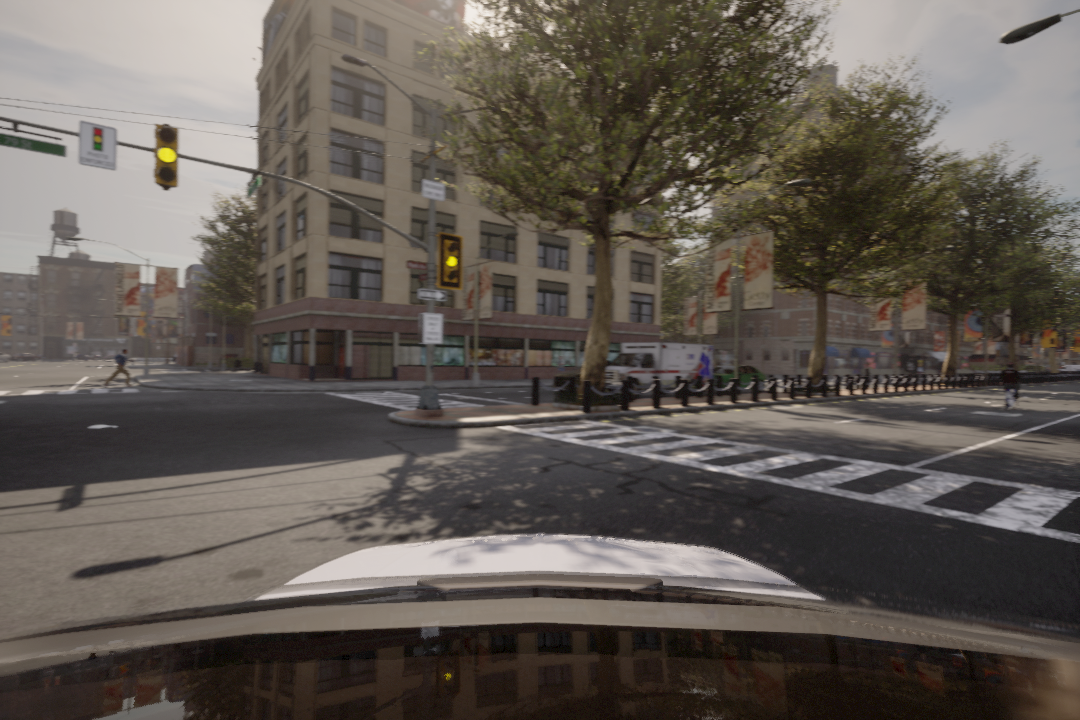TrafficLight: (156, 121, 178, 188), (437, 234, 464, 288)
walkside: (524, 394, 1080, 555)
